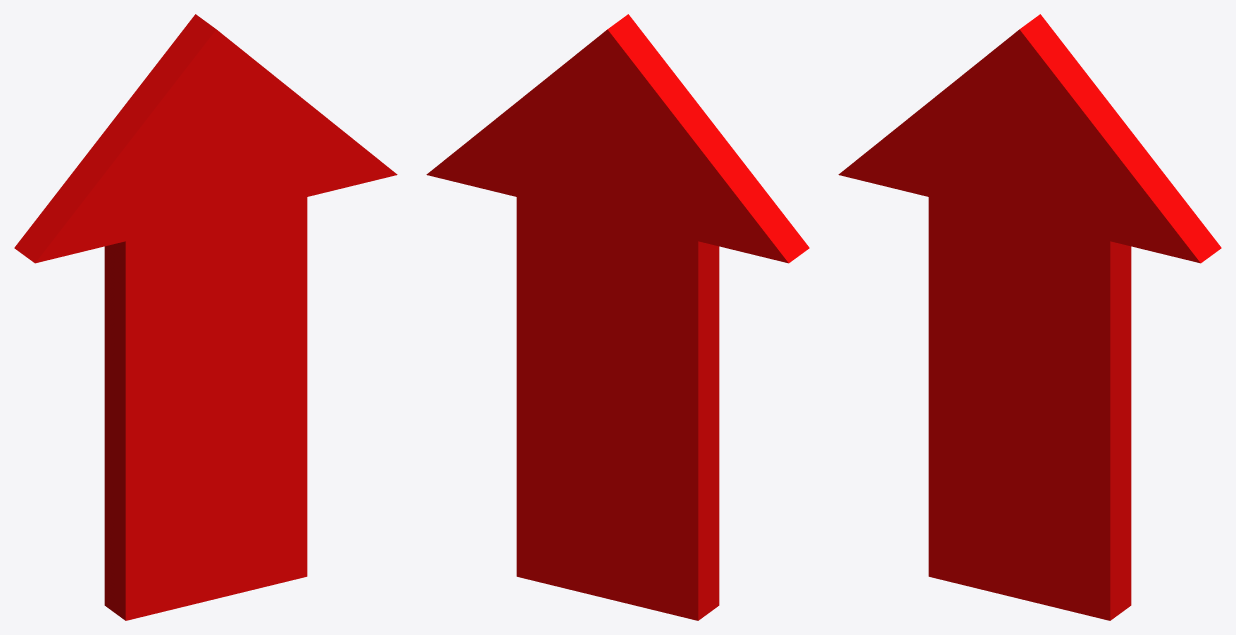
The model's file is Proto_Symbol_Arrow_Straight_01.fbx.
The picture shows the model from 3 angles, left to right: view 1: azimuth 30°, elevation 25°; view 2: azimuth 150°, elevation 25°; view 3: azimuth 330°, elevation 25°; orthographic projection.
Visible parts, largest first — view 1: Proto_Symbol_Arrow_Straight_01; view 2: Proto_Symbol_Arrow_Straight_01; view 3: Proto_Symbol_Arrow_Straight_01.
Boxes of the visible parts, left/top/right/bottom form: Proto_Symbol_Arrow_Straight_01: left=14, top=14, right=397, bottom=620; Proto_Symbol_Arrow_Straight_01: left=426, top=14, right=809, bottom=620; Proto_Symbol_Arrow_Straight_01: left=838, top=14, right=1221, bottom=620.
Size of the model in its own units: 0.5 by 0.75 by 0.05.
